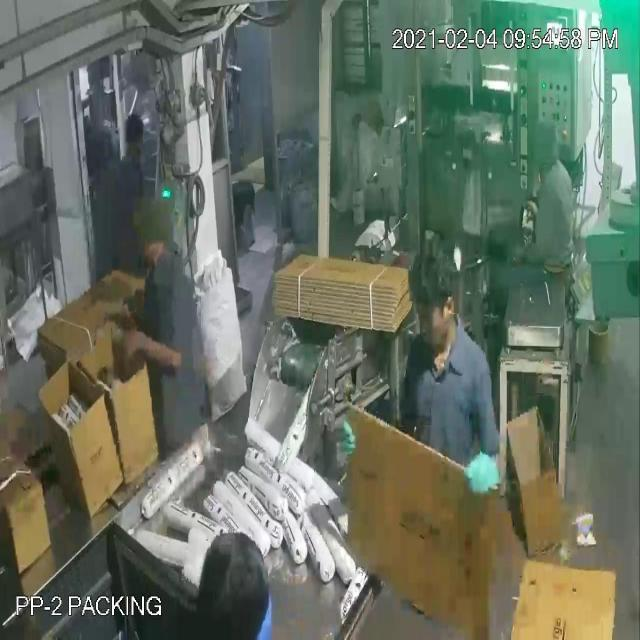No_Gloves: (72, 86, 489, 480)
